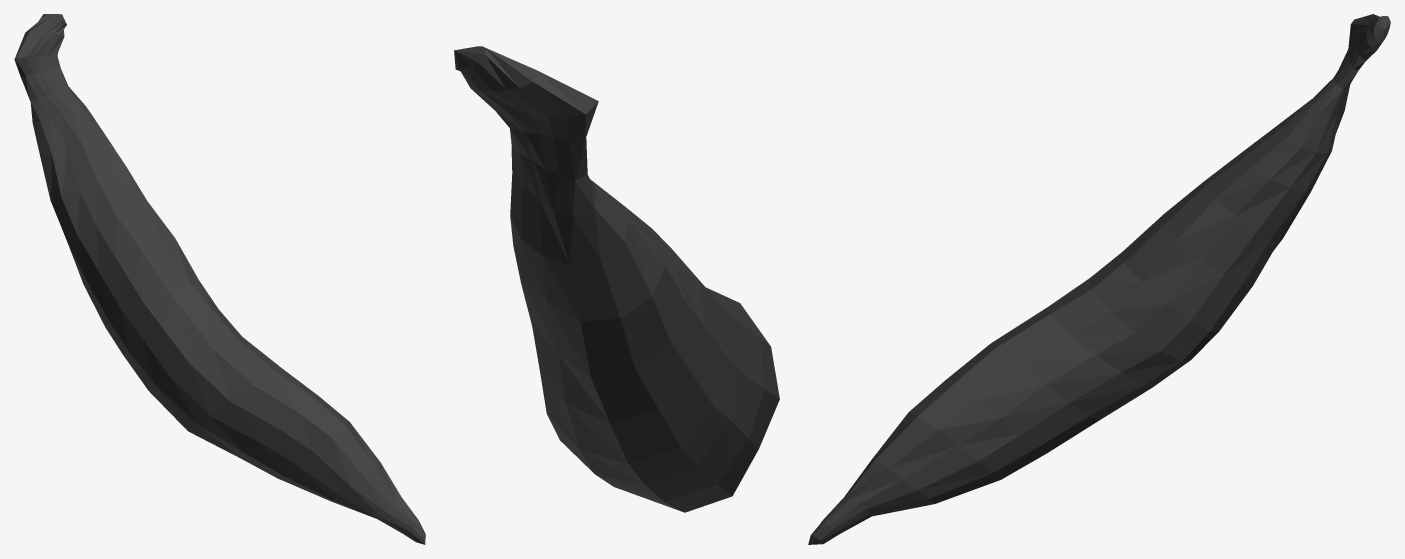
Rendered from SemimembranosusCranial.glb.
3 views of the same model, side by side, from view 1: azimuth 30°, elevation 25°; view 2: azimuth 150°, elevation 25°; view 3: azimuth 270°, elevation 25° (orthographic). The views are drawn at different scales.
Parts seen in each view (by area): view 1: SemimembranosusCranial; view 2: SemimembranosusCranial; view 3: SemimembranosusCranial.
Part boxes in pixels (x1,y1,x2,y2): SemimembranosusCranial: [14, 14, 425, 544]; SemimembranosusCranial: [454, 46, 779, 512]; SemimembranosusCranial: [808, 14, 1390, 544].
Bounding box in the file's own units: 2.51 × 5.07 × 5.91.
Materials: 1 (1 with a texture image).
